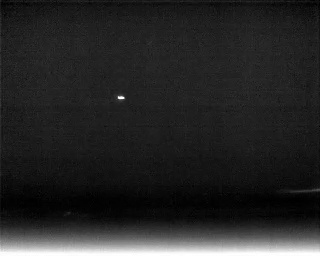AIRPLANE: (115, 93, 127, 102)
